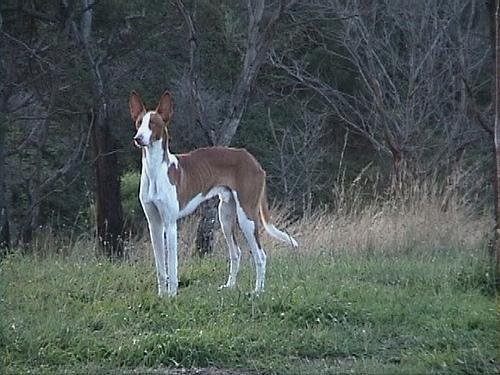Ibizan_hound: (126, 86, 301, 300)
